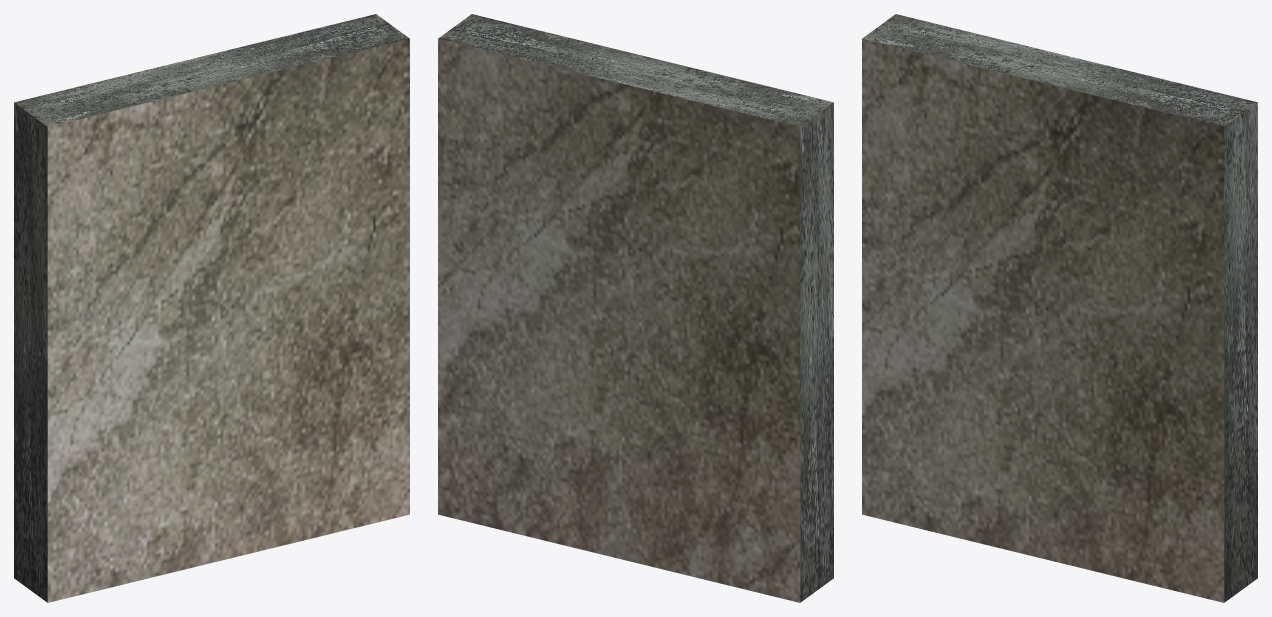
The model's file is monkeylabbigwall.gltf.
3 views of the same model, side by side, from view 1: azimuth 30°, elevation 25°; view 2: azimuth 150°, elevation 25°; view 3: azimuth 330°, elevation 25° (orthographic).
Parts seen in each view (by area): view 1: Cube; view 2: Cube; view 3: Cube.
Part boxes in pixels (bbox=[...]): Cube: bbox=[14, 14, 409, 602]; Cube: bbox=[438, 14, 833, 602]; Cube: bbox=[862, 14, 1257, 602].
Size of the model in its own units: 3.98 by 5 by 0.641.
1 material, 1 textured.
